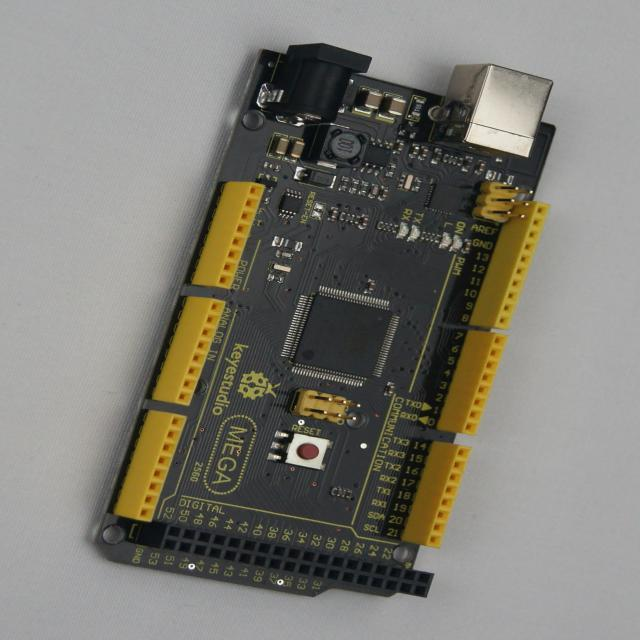Arduino Mega 2560 -Yellow-: (97, 45, 555, 597)
